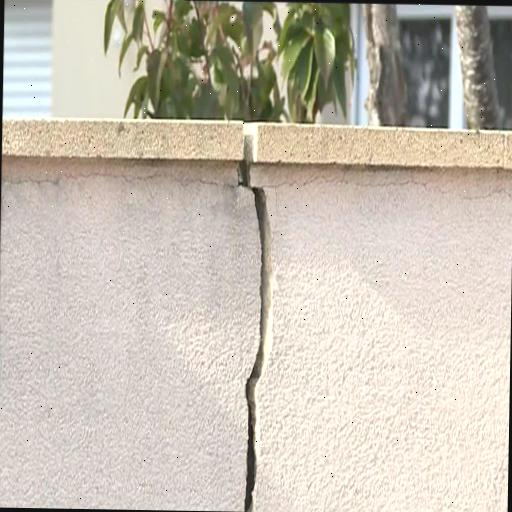spalling: (238, 191, 277, 506)
